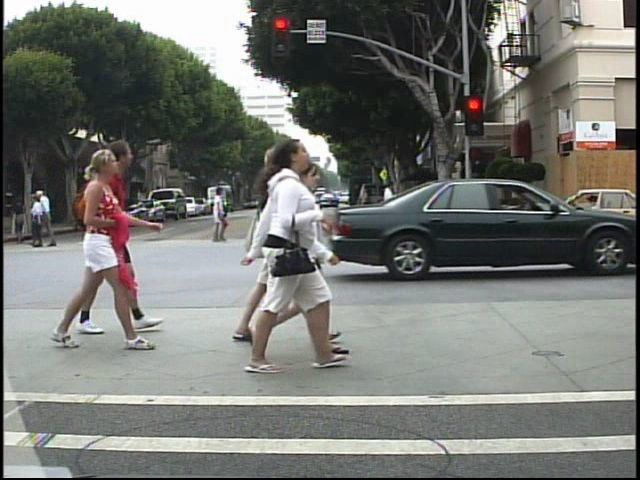person: (249, 136, 332, 378), (50, 146, 139, 355), (285, 159, 362, 372), (227, 146, 305, 354), (103, 139, 151, 336), (378, 177, 406, 240), (38, 185, 59, 250), (268, 184, 291, 242), (208, 184, 229, 247), (28, 195, 51, 250), (358, 187, 374, 223)
